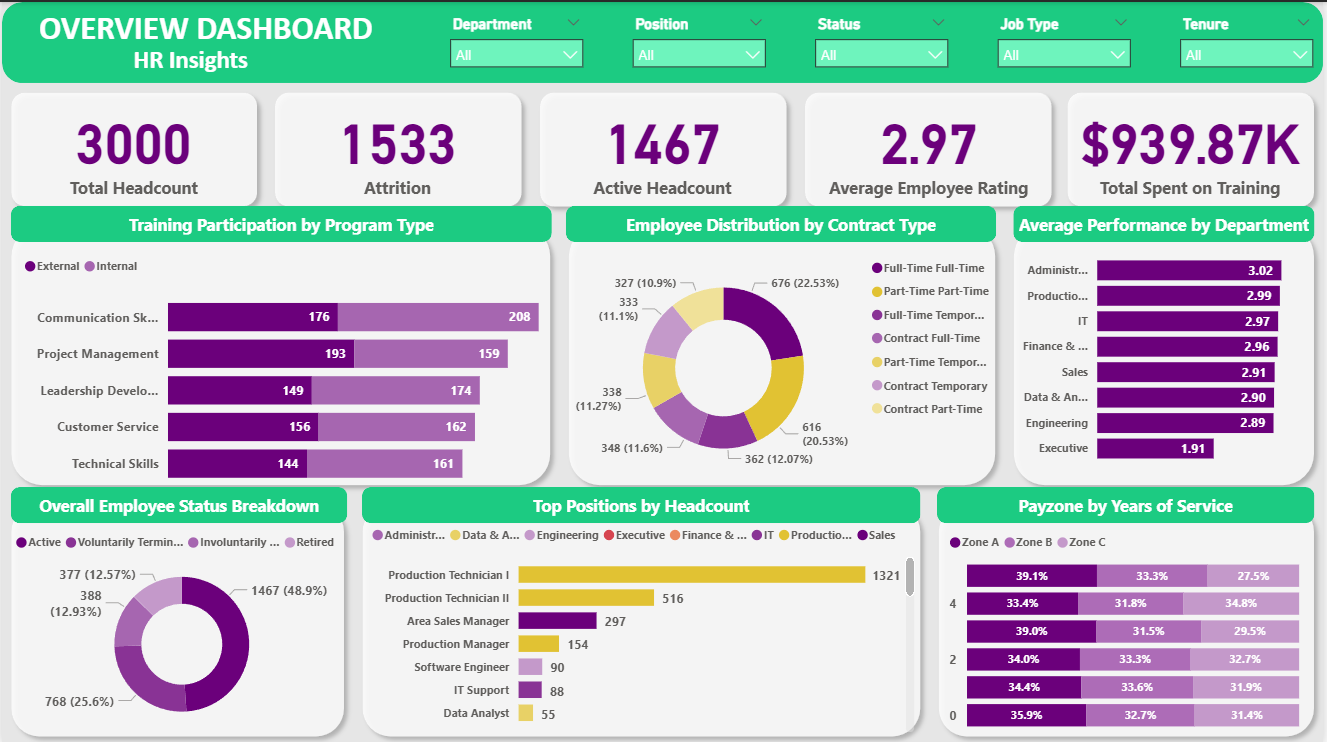

The page's visual inventory and layout, read from the dashboard file:
{"tool":"powerbi","page":{"name":"Overview","canvas":[1280,720],"ordinal":0},"visuals":[{"type":"shape","box":[898.2,476.9,381.3,243.3],"z":0},{"type":"shape","box":[539.9,207,430.9,269.9],"z":1000},{"type":"shape","box":[0,476.9,340.1,243.3],"z":2000},{"type":"shape","box":[0,207,539.9,269.9],"z":3000},{"type":"shape","box":[255.4,78.7,256.6,128.3],"z":4000},{"type":"shape","box":[512,78.7,256.6,128.3],"z":5000},{"type":"shape","box":[768.7,78.7,256.6,128.3],"z":6000},{"type":"shape","box":[1022.9,78.7,256.6,128.3],"z":7000},{"type":"shape","box":[0,78.7,256,128],"z":8000},{"type":"shape","box":[0,0,1279.5,78.7],"z":9000},{"type":"card","fields":{"Values":["_Measures.Total Employees"]},"box":[8.5,87.2,238.5,110.2],"z":10000},{"type":"card","fields":{"Values":["_Measures.Active Employees"]},"box":[520.5,87,238.5,110.2],"z":11000},{"type":"card","fields":{"Values":["_Measures.Training Cost"]},"box":[1031.3,87.2,238.5,110.2],"z":12000},{"type":"donutChart","fields":{"Category":["silver Employees.employee_status"],"Y":["_Measures.Total Employees"]},"box":[8.5,504.8,331.7,207],"z":13000},{"type":"donutChart","fields":{"Category":["silver Employees.employment_type","silver Employees.employee_classification_type"],"Y":["_Measures.Total Employees"]},"box":[550.8,240.9,420,227.6],"z":14000},{"type":"shape","box":[970.8,207,308.7,269.9],"z":15000},{"type":"shape","box":[340.1,476.9,558,243.3],"z":16000},{"type":"barChart","fields":{"Category":["silver Employees.title"],"Y":["CountNonNull(silver Employees.employee_id)"],"Series":["silver Employees.department"]},"box":[353.5,497.5,535,214.3],"z":17000},{"type":"clusteredBarChart","fields":{"Category":["silver Employees.department"],"Y":["Avg(silver Employees.current_rating)"]},"box":[970.8,227.6,308.7,230],"z":18000},{"type":"card","fields":{"Values":["_Measures.Quitting Employees"]},"box":[263.9,87,238.5,110.2],"z":19000},{"type":"card","fields":{"Values":["Avg(silver Employees.current_rating)"]},"box":[778.3,87,238.5,110.2],"z":20000},{"type":"hundredPercentStackedBarChart","fields":{"Category":["silver Employees.Tenure (in years)"],"Y":["CountNonNull(silver Employees.employee_id)"],"Series":["silver Employees.payzone"]},"box":[912.7,504.8,348.6,209.4],"z":21000},{"type":"barChart","fields":{"Category":["silver TrainingandDevelopment.training_name"],"Series":["silver TrainingandDevelopment.training_type"],"Y":["CountNonNull(silver TrainingandDevelopment.employee_id)"]},"box":[16.9,237.3,522.9,243.3],"z":22000},{"type":"shape","box":[8.5,197.3,524,35.1],"z":23000},{"type":"shape","box":[545.9,197.3,417,35.1],"z":24000},{"type":"shape","box":[979.3,197.3,291.7,35.1],"z":25000},{"type":"shape","box":[8.5,469.7,326,35.1],"z":26000},{"type":"shape","box":[348.6,469.7,541,35.1],"z":27000},{"type":"shape","box":[905.5,469.7,365.6,35.1],"z":28000},{"type":"textbox","box":[113.8,36.3,138,42.4],"z":29000},{"type":"slicer","fields":{"Values":["silver Employees.department"]},"box":[423.2,7.3,148.9,65.4],"z":30000},{"type":"slicer","fields":{"Values":["silver Employees.title"]},"box":[600,7.3,148.9,65.4],"z":31000},{"type":"slicer","fields":{"Values":["silver Employees.employee_status"]},"box":[776.9,7.3,148.9,65.4],"z":32000},{"type":"slicer","fields":{"Values":["silver Employees.employment_type"]},"box":[953.8,7.3,148.9,65.4],"z":33000},{"type":"slicer","fields":{"Values":["silver Employees.Tenure (in years)"]},"box":[1130.6,7.3,148.9,65.4],"z":34000}]}

Visuals, with their boxes in screenshot pixels (x1, y1, x2, y2), scaled from the page's 1280x720 canvas onto the 1327x742 screenshot:
shape: <region>931, 491, 1326, 741</region>
shape: <region>560, 213, 1006, 491</region>
shape: <region>0, 491, 353, 741</region>
shape: <region>0, 213, 560, 491</region>
shape: <region>265, 81, 531, 213</region>
shape: <region>531, 81, 797, 213</region>
shape: <region>797, 81, 1063, 213</region>
shape: <region>1060, 81, 1326, 213</region>
shape: <region>0, 81, 265, 213</region>
shape: <region>0, 0, 1326, 81</region>
card - _Measures.Total Employees: <region>9, 90, 256, 203</region>
card - _Measures.Active Employees: <region>540, 90, 787, 203</region>
card - _Measures.Training Cost: <region>1069, 90, 1316, 203</region>
donutChart - silver Employees.employee_status x _Measures.Total Employees: <region>9, 520, 353, 734</region>
donutChart - silver Employees.employment_type x silver Employees.employee_classification_type: <region>571, 248, 1006, 483</region>
shape: <region>1006, 213, 1326, 491</region>
shape: <region>353, 491, 931, 741</region>
barChart - silver Employees.title x CountNonNull(silver Employees.employee_id): <region>366, 513, 921, 734</region>
clusteredBarChart - silver Employees.department x Avg(silver Employees.current_rating): <region>1006, 235, 1326, 472</region>
card - _Measures.Quitting Employees: <region>274, 90, 521, 203</region>
card - Avg(silver Employees.current_rating): <region>807, 90, 1054, 203</region>
hundredPercentStackedBarChart - silver Employees.Tenure (in years) x CountNonNull(silver Employees.employee_id): <region>946, 520, 1308, 736</region>
barChart - silver TrainingandDevelopment.training_name x silver TrainingandDevelopment.training_type: <region>18, 245, 560, 495</region>
shape: <region>9, 203, 552, 240</region>
shape: <region>566, 203, 998, 240</region>
shape: <region>1015, 203, 1318, 240</region>
shape: <region>9, 484, 347, 520</region>
shape: <region>361, 484, 922, 520</region>
shape: <region>939, 484, 1318, 520</region>
textbox: <region>118, 37, 261, 81</region>
slicer - silver Employees.department: <region>439, 8, 593, 75</region>
slicer - silver Employees.title: <region>622, 8, 776, 75</region>
slicer - silver Employees.employee_status: <region>805, 8, 960, 75</region>
slicer - silver Employees.employment_type: <region>989, 8, 1143, 75</region>
slicer - silver Employees.Tenure (in years): <region>1172, 8, 1326, 75</region>
